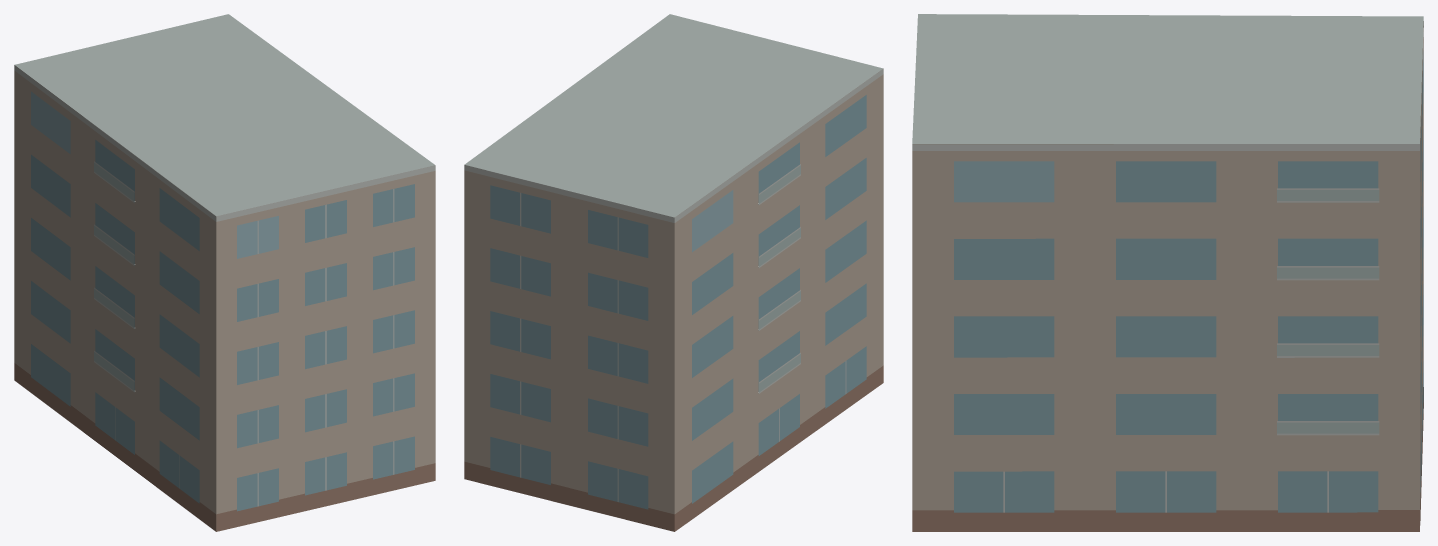
Rendered from survey-upis-32773714.glb.
The picture shows the model from 3 angles, left to right: view 1: azimuth 30°, elevation 25°; view 2: azimuth 150°, elevation 25°; view 3: azimuth 270°, elevation 25°; orthographic projection. The views are drawn at different scales.
Visible parts, largest first — view 1: survey-upis-32773714.tmp; view 2: survey-upis-32773714.tmp; view 3: survey-upis-32773714.tmp.
Part boxes in pixels (x1,y1,x2,y2): survey-upis-32773714.tmp: (14, 14, 435, 531); survey-upis-32773714.tmp: (464, 14, 883, 531); survey-upis-32773714.tmp: (912, 14, 1423, 531).
Size of the model in its own units: 9.89 by 13.7 by 16.39.
